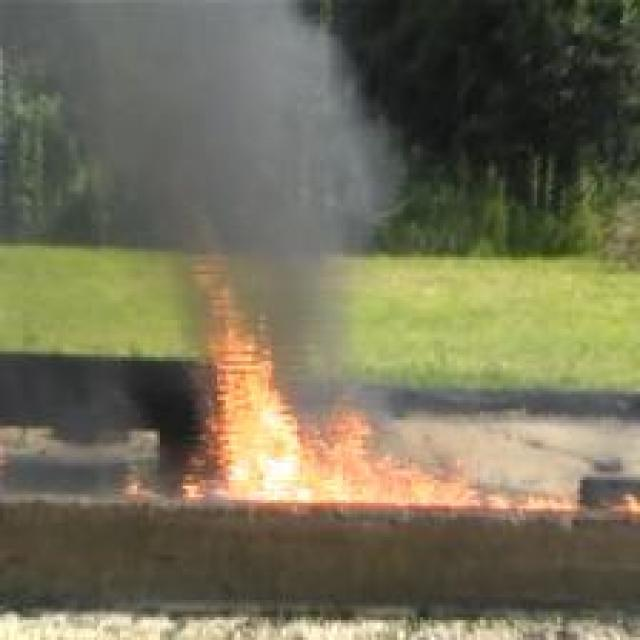Fire: (120, 262, 640, 512)
